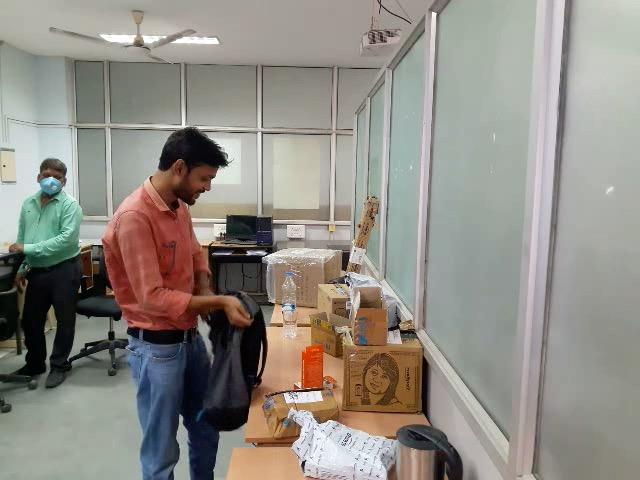shoplifting: (66, 242, 281, 457)
